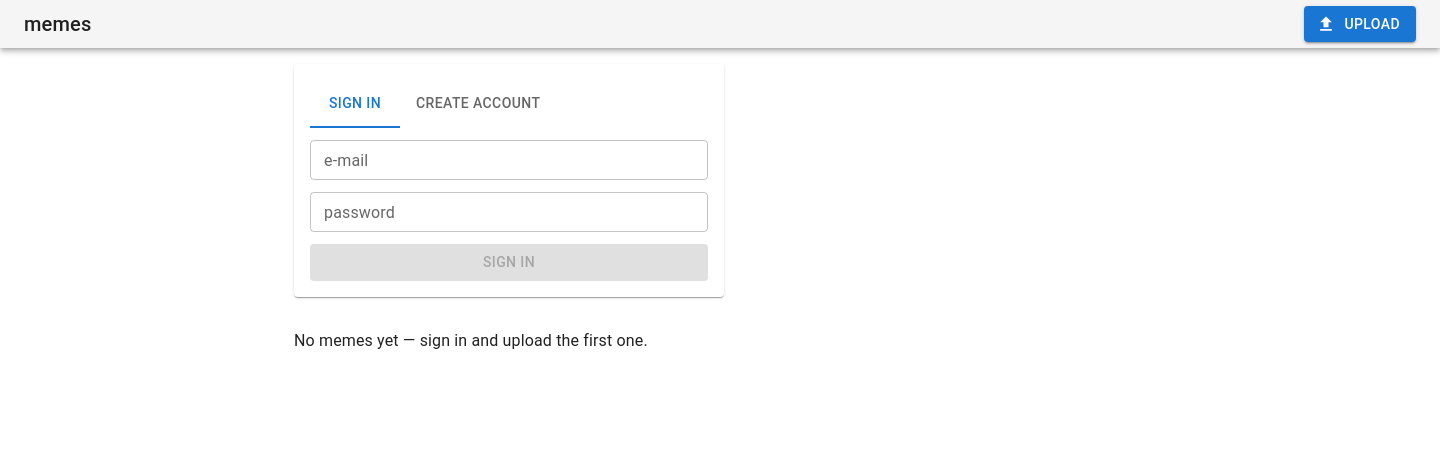
Test case: when the service behind a write is down › the sign-in form says so instead of quietly re-enabling itself
Step 1. Type "ala@example.com" into the field labelled "e-mail" → (509, 160), box [310,140,708,180]
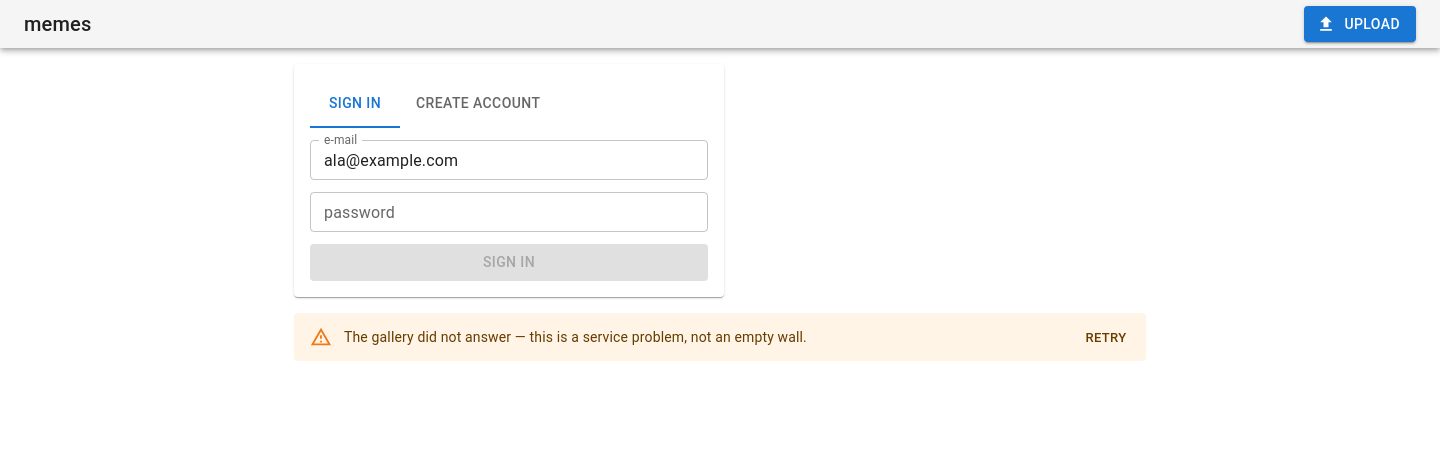
Step 2. Type "Correct-Horse-9" into the password field labelled "password" → (509, 212), box [310,192,708,232]
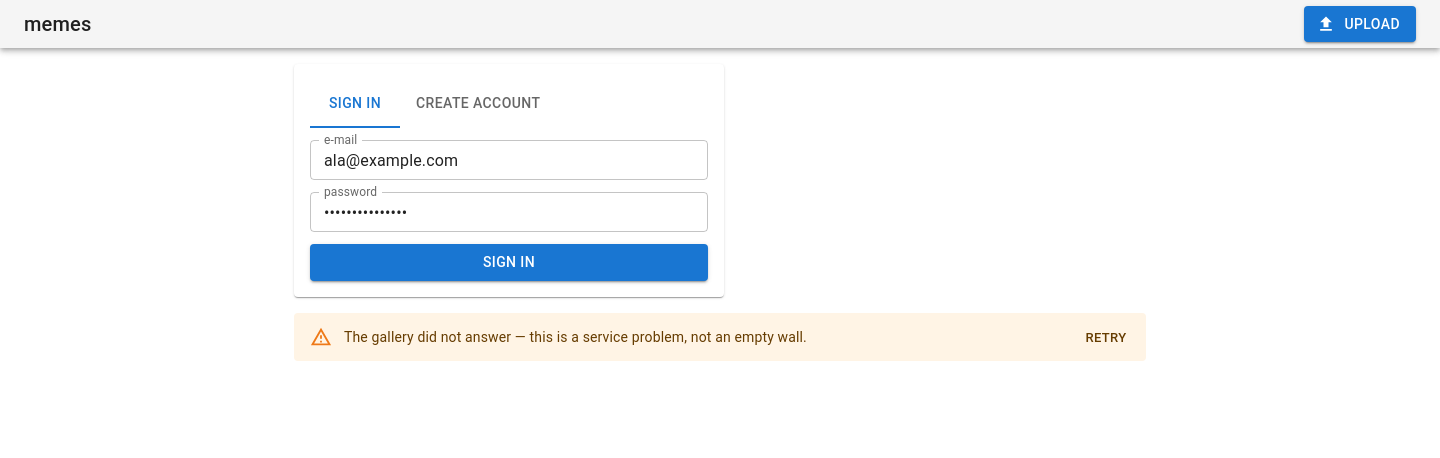
Step 3. Click the button "Sign in" → (509, 262), box [310,244,708,280]
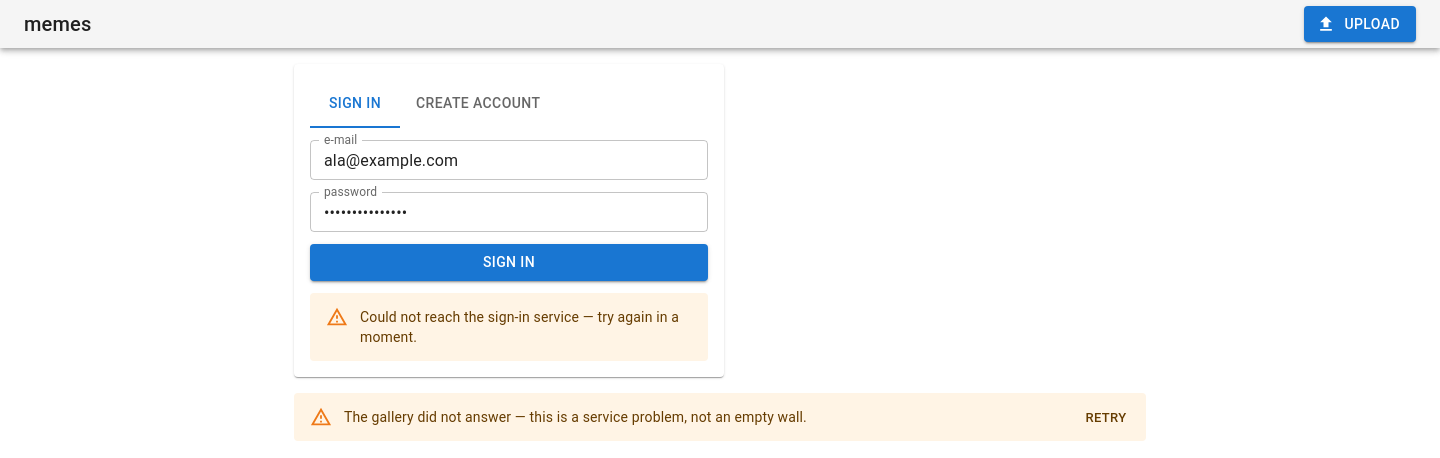
Result: the text "Could not reach the sign-in service — try again in a moment." is shown at [360,298,692,354]
